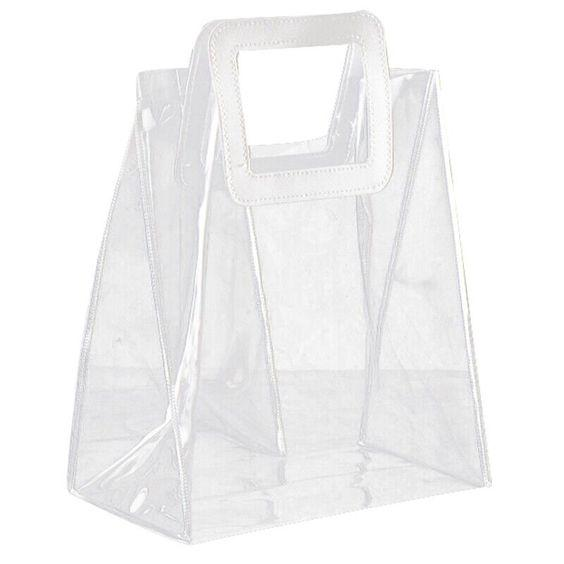PVC: (45, 0, 554, 564)
